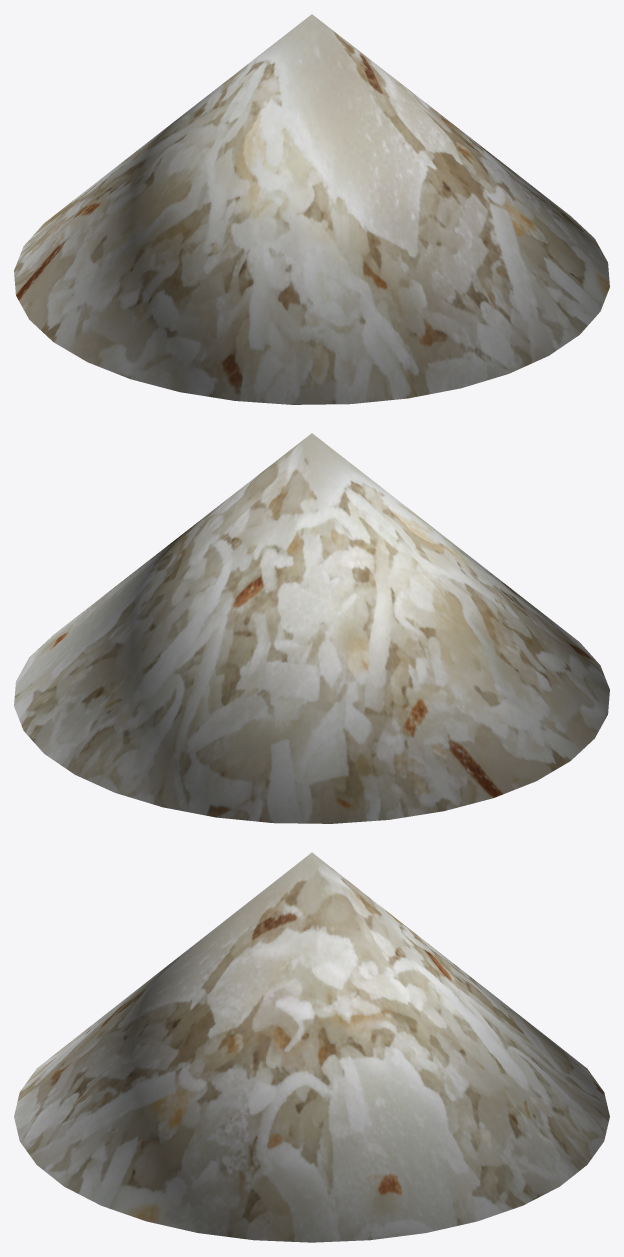
File: coconut-flakes.glb
3 renders of one model, top to bottom at view 1: azimuth 30°, elevation 25°; view 2: azimuth 150°, elevation 25°; view 3: azimuth 270°, elevation 25°, orthographic.
Parts seen in each view (by area): view 1: Cone; view 2: Cone; view 3: Cone.
Part boxes in pixels (x1=…): Cone: x1=14, y1=14, x2=609, y2=404; Cone: x1=14, y1=433, x2=609, y2=823; Cone: x1=14, y1=852, x2=609, y2=1242.
Size of the model in its own units: 2 by 0.979 by 2.
1 material, 1 textured.
